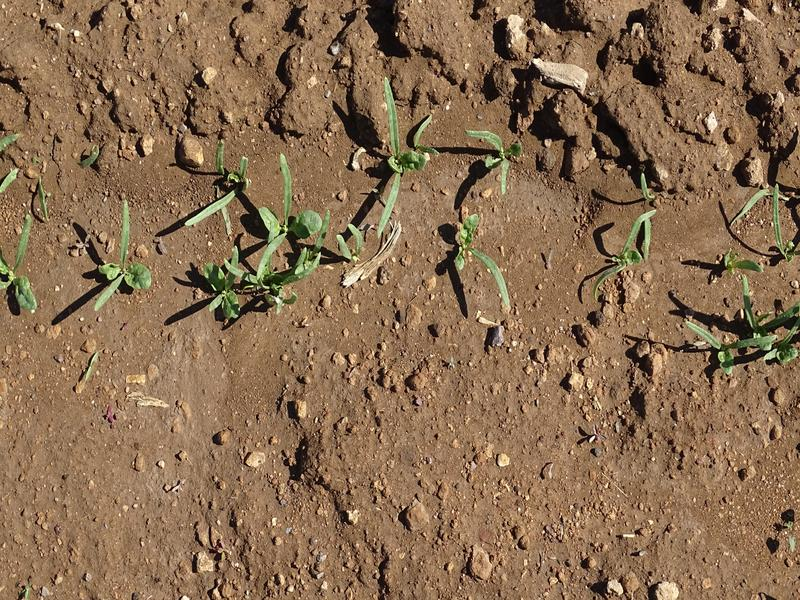Espinaca: (201, 142, 332, 316), (681, 277, 792, 370), (367, 84, 419, 253), (89, 201, 149, 307), (457, 211, 517, 311), (726, 190, 792, 270), (1, 209, 38, 313), (613, 207, 655, 294), (473, 125, 519, 187)
